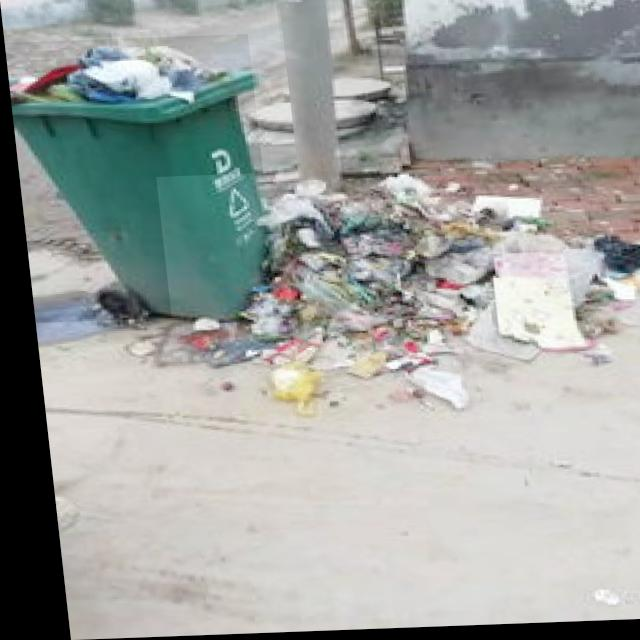garbage: (152, 163, 640, 421)
overflow: (4, 36, 271, 323)
